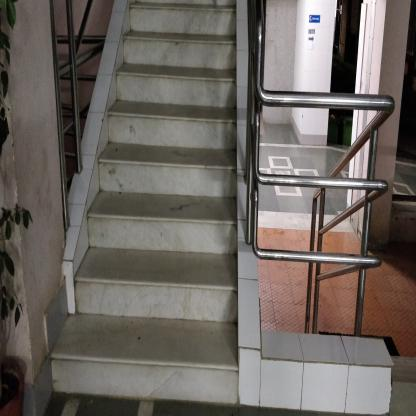stairs: (128, 16, 234, 411)
